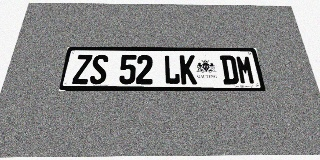2: (136, 55, 153, 84)
5: (119, 55, 137, 84)
D: (220, 55, 240, 84)
K: (180, 55, 197, 84)
L: (164, 55, 180, 84)
M: (235, 55, 256, 84)
S: (89, 55, 109, 84)
Z: (72, 54, 93, 84)
